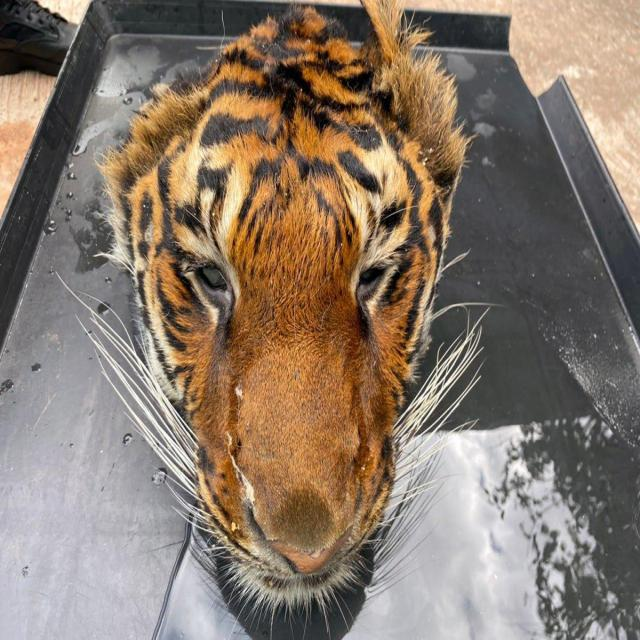Tiger: (104, 7, 481, 630)
